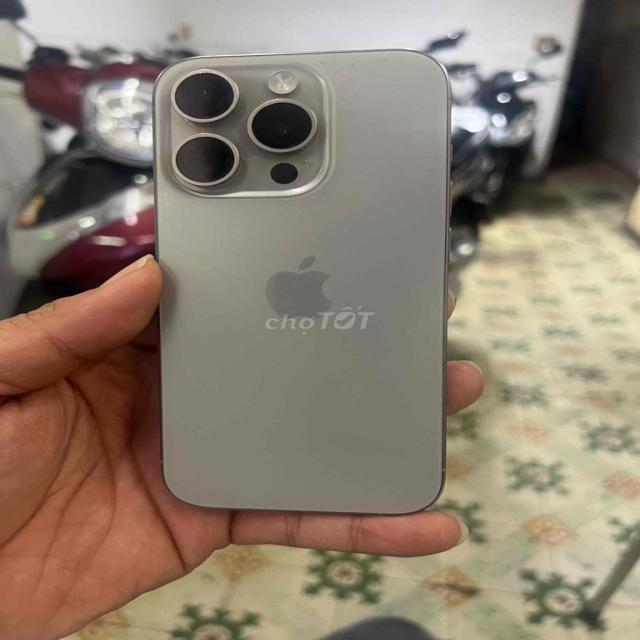gen_15: (135, 36, 463, 525)
